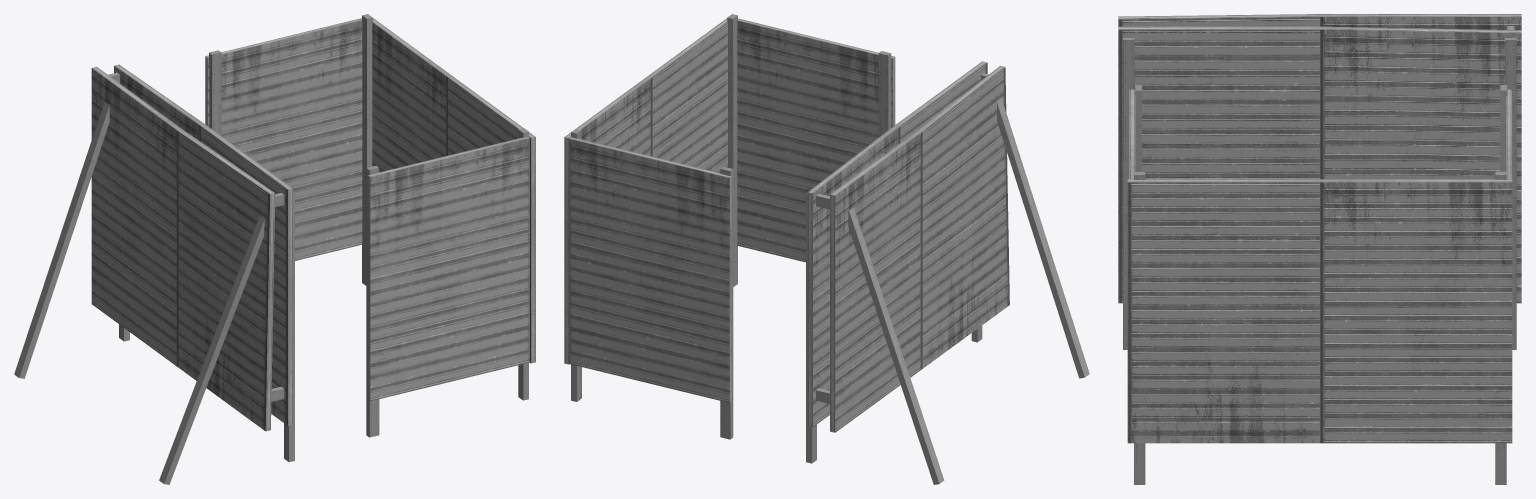
File: CP_Louvered_Screen_01.fbx
3 renders of one model, left to right at view 1: azimuth 30°, elevation 25°; view 2: azimuth 150°, elevation 25°; view 3: azimuth 270°, elevation 25°, orthographic. The views are drawn at different scales.
Parts seen in each view (by area): view 1: CP_Louvered_Screen_01; view 2: CP_Louvered_Screen_01; view 3: CP_Louvered_Screen_01.
Part boxes in pixels (bbox=[...]): CP_Louvered_Screen_01: bbox=[14, 14, 535, 484]; CP_Louvered_Screen_01: bbox=[564, 14, 1089, 484]; CP_Louvered_Screen_01: bbox=[1118, 14, 1521, 484].
Bounding box in the file's own units: 634 × 460 × 523.
